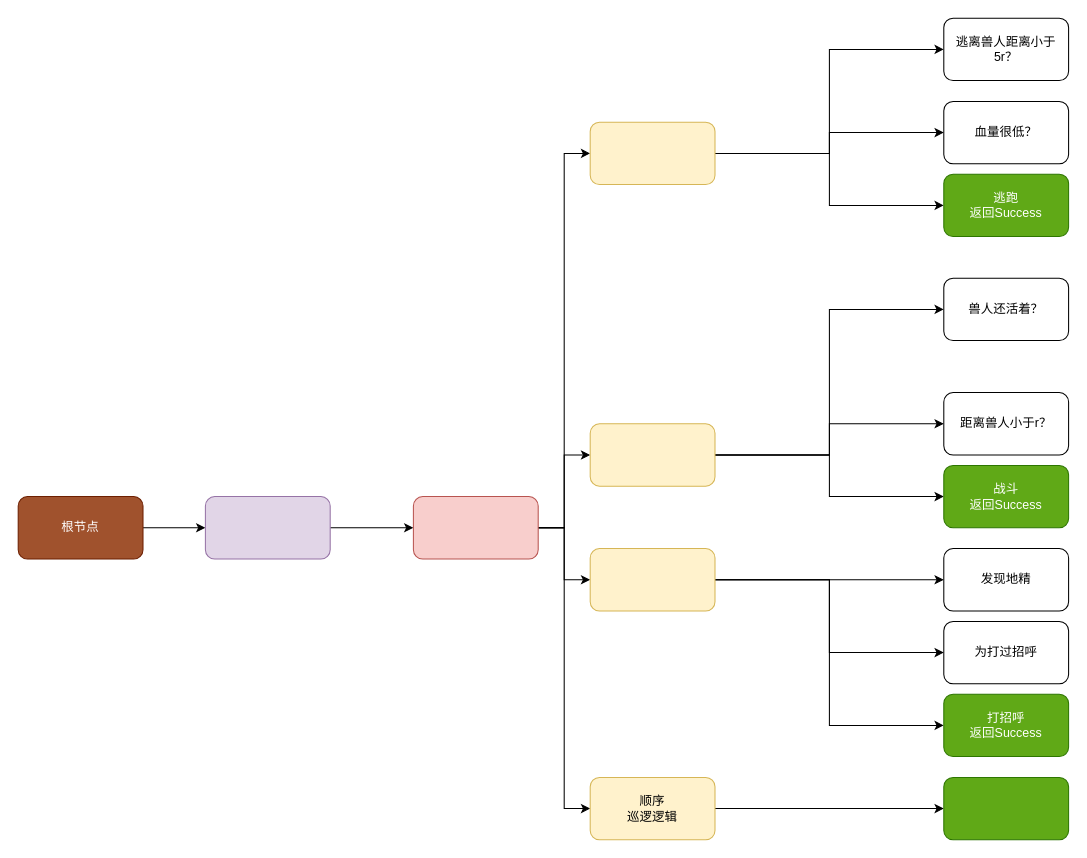
The diagram is 1087 pixels wide and 858 high, and some of its shapes have lost their labels. Each missing label, with the box of its shape:
回血 并且逐渐靠近兽人和地精 返回Success: (943, 776, 1069, 840)
循环节点: (204, 496, 330, 559)
选择: (412, 496, 538, 559)
顺序 战斗逻辑: (589, 423, 715, 486)
顺序 打招呼: (589, 548, 715, 611)
顺序 逃跑逻辑: (589, 121, 715, 185)
